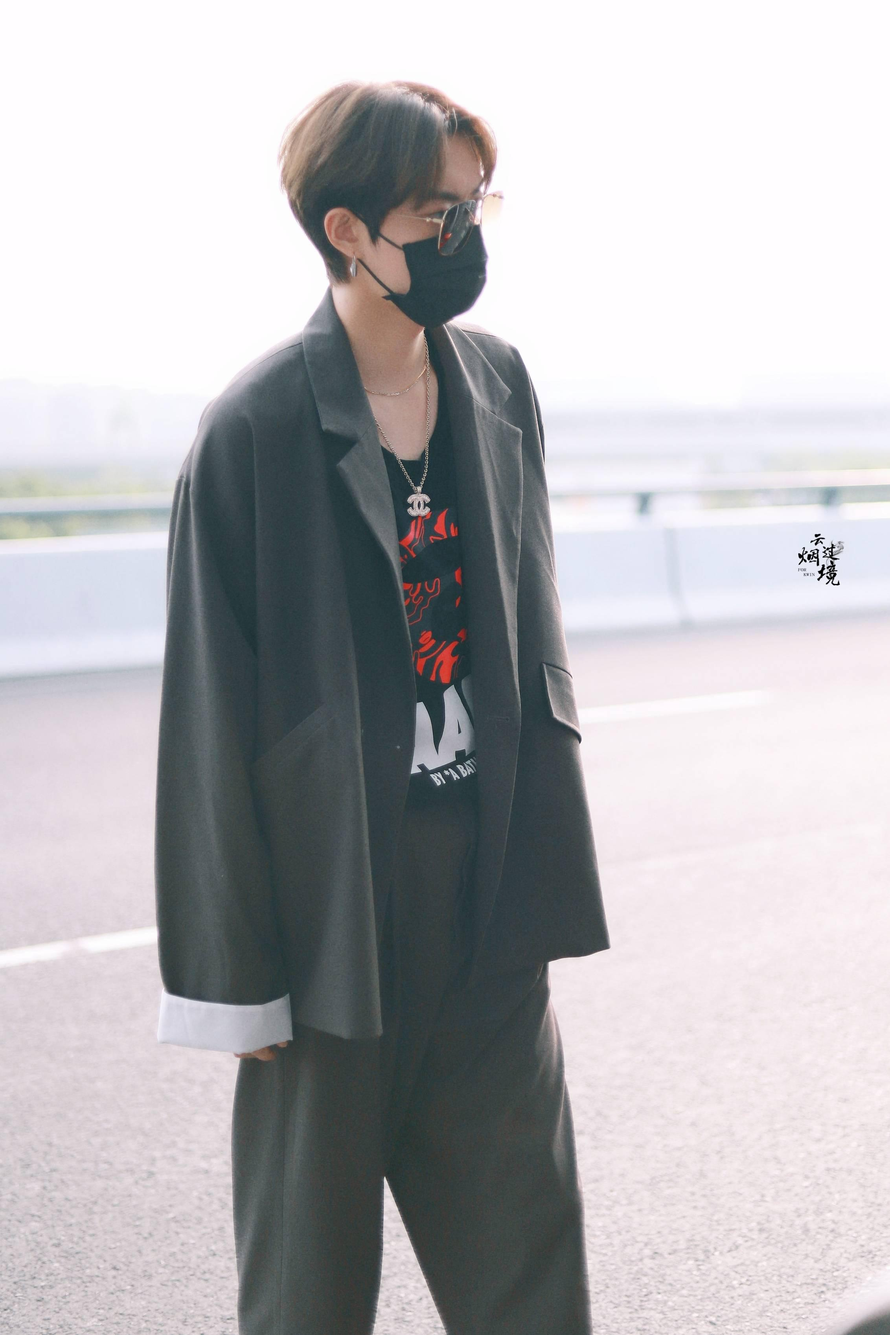OK: (382, 172, 486, 332)
